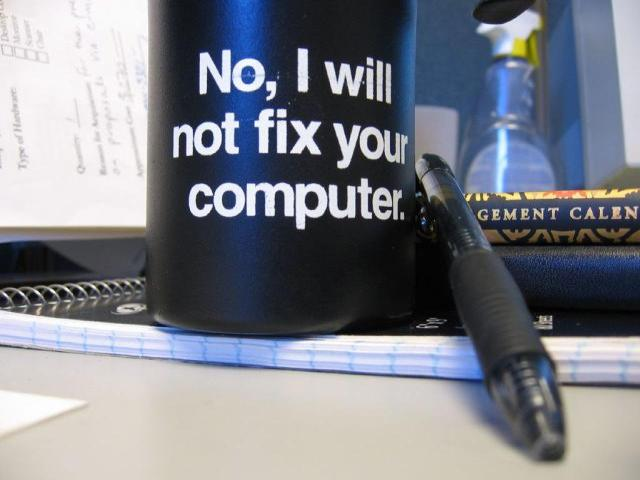PEN: (402, 135, 576, 466)
